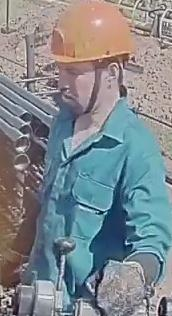gloves: (84, 247, 165, 316), (0, 234, 30, 288)
helmet: (45, 1, 137, 69)
vest: (20, 94, 171, 299)
